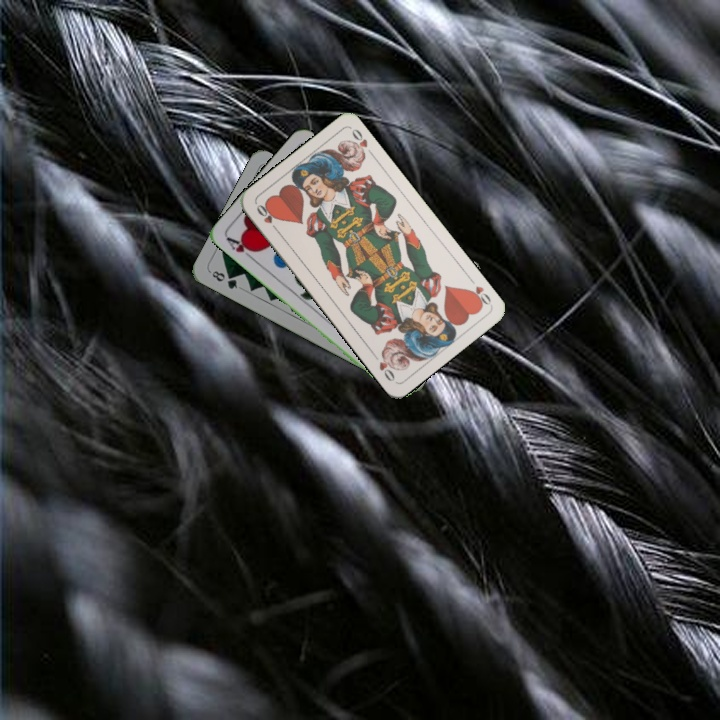G8: (208, 267, 240, 292)
HA: (222, 233, 259, 263)
HO: (464, 273, 494, 310), (252, 200, 282, 235)
